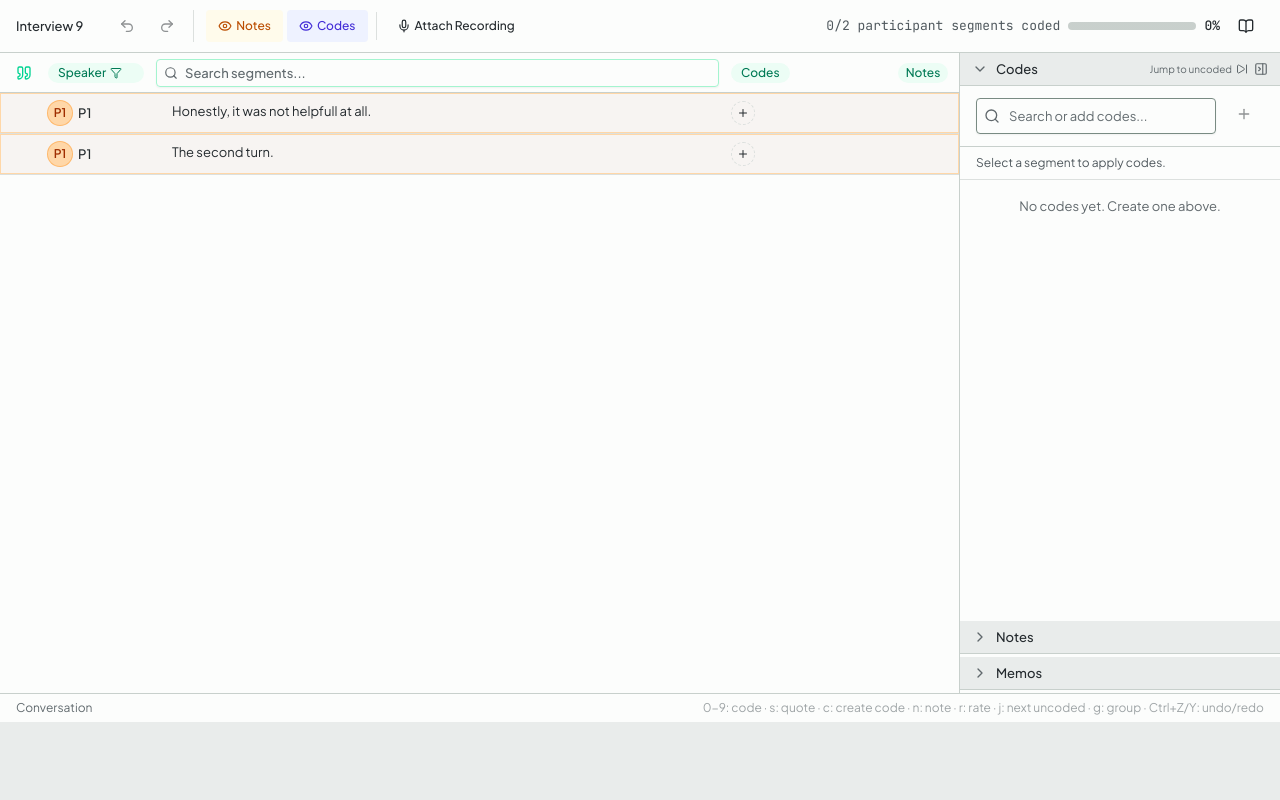
Test: #1319 — a text edit on the conversation workbench › keep as shown saves with the shown span, then closes the editor and says Saved
Double-click the text "Honestly, it was not helpfull at all." at (272,111), box [172,103,371,119]
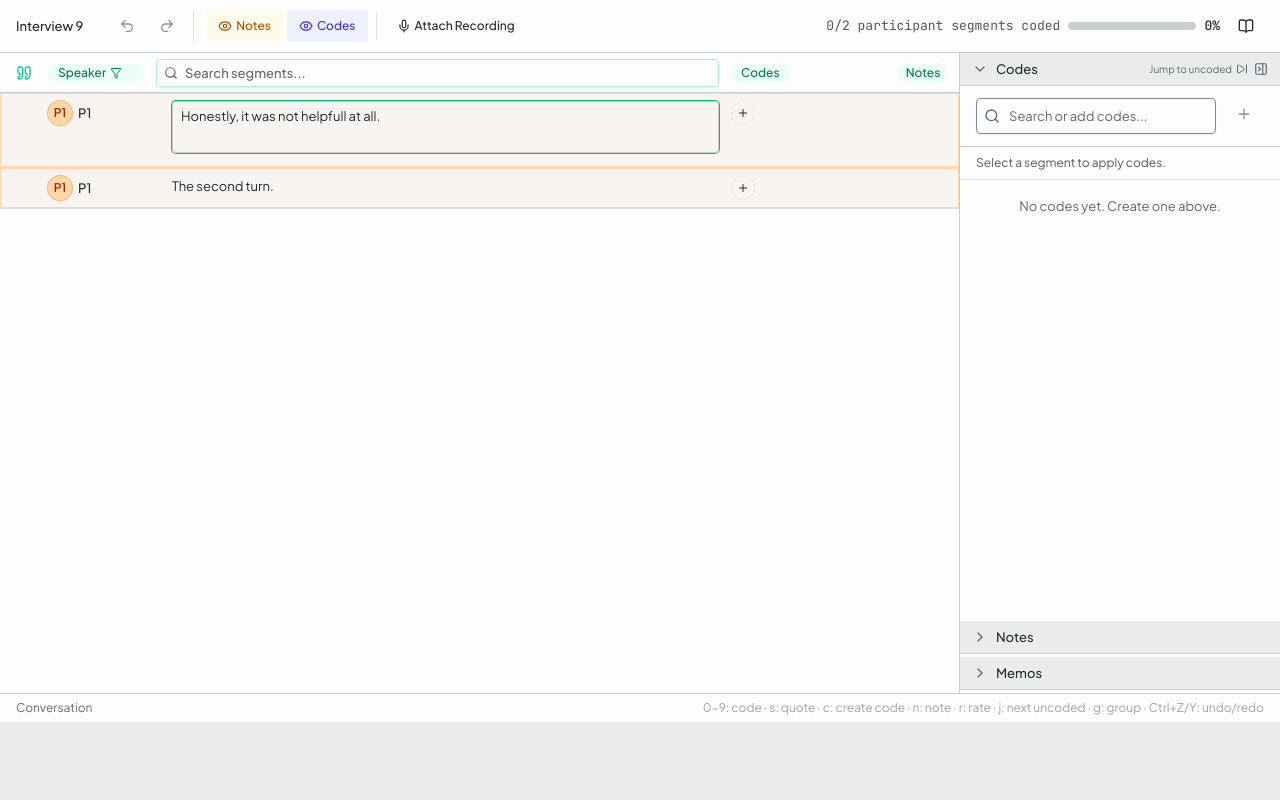
Replace the text in the text box named "Edit segment text" with "Honestly, it was not helpful at all.". click: (446,127)
box: [172,101,719,153]
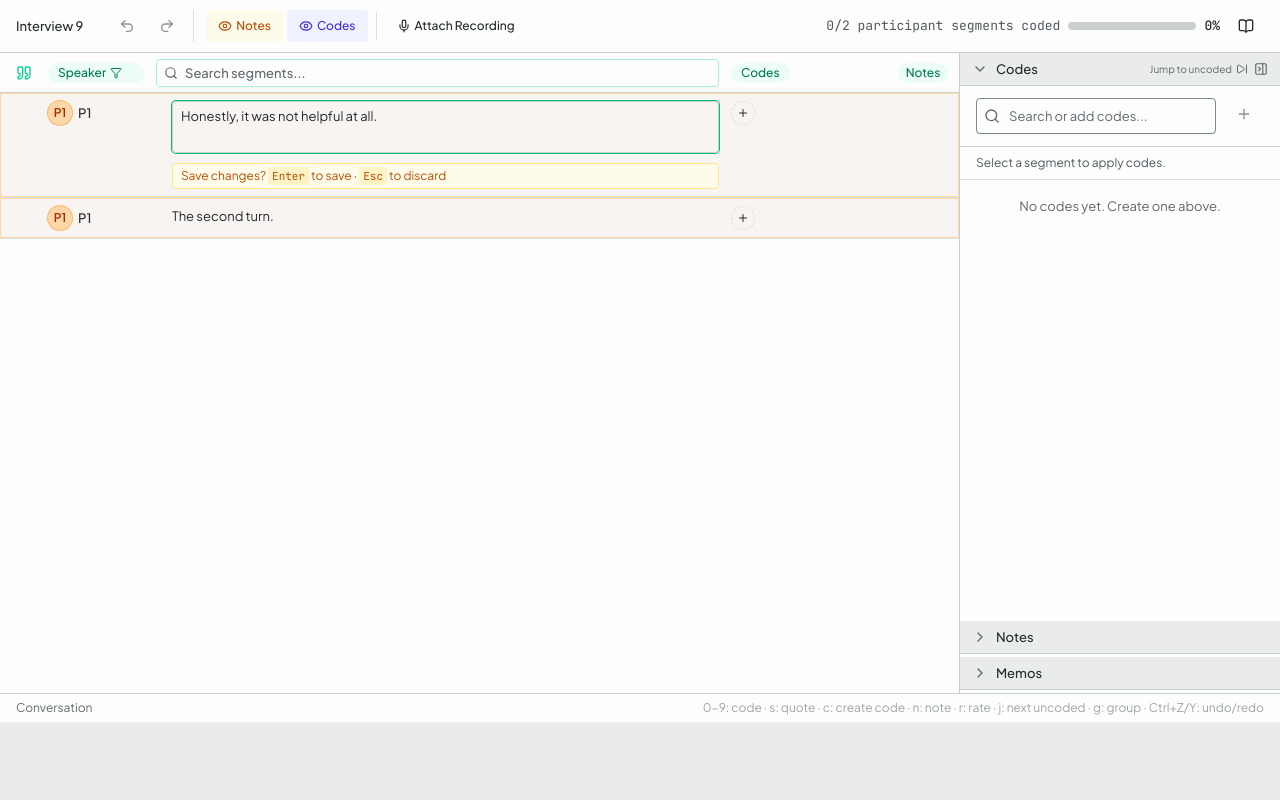
Press Enter in the text box named "Edit segment text", box [172,101,719,153]
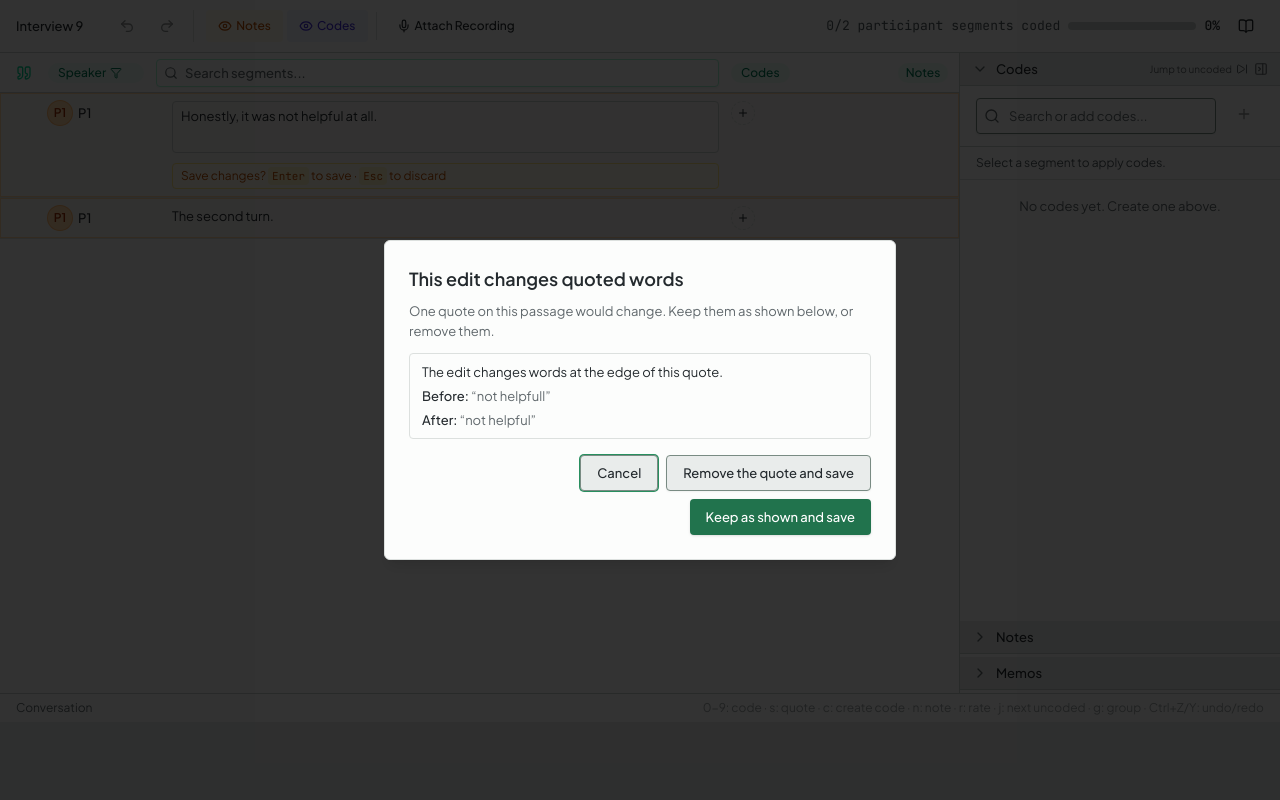
Click the button "Keep as shown and save". click: (780,517)
box: [690,499,871,535]
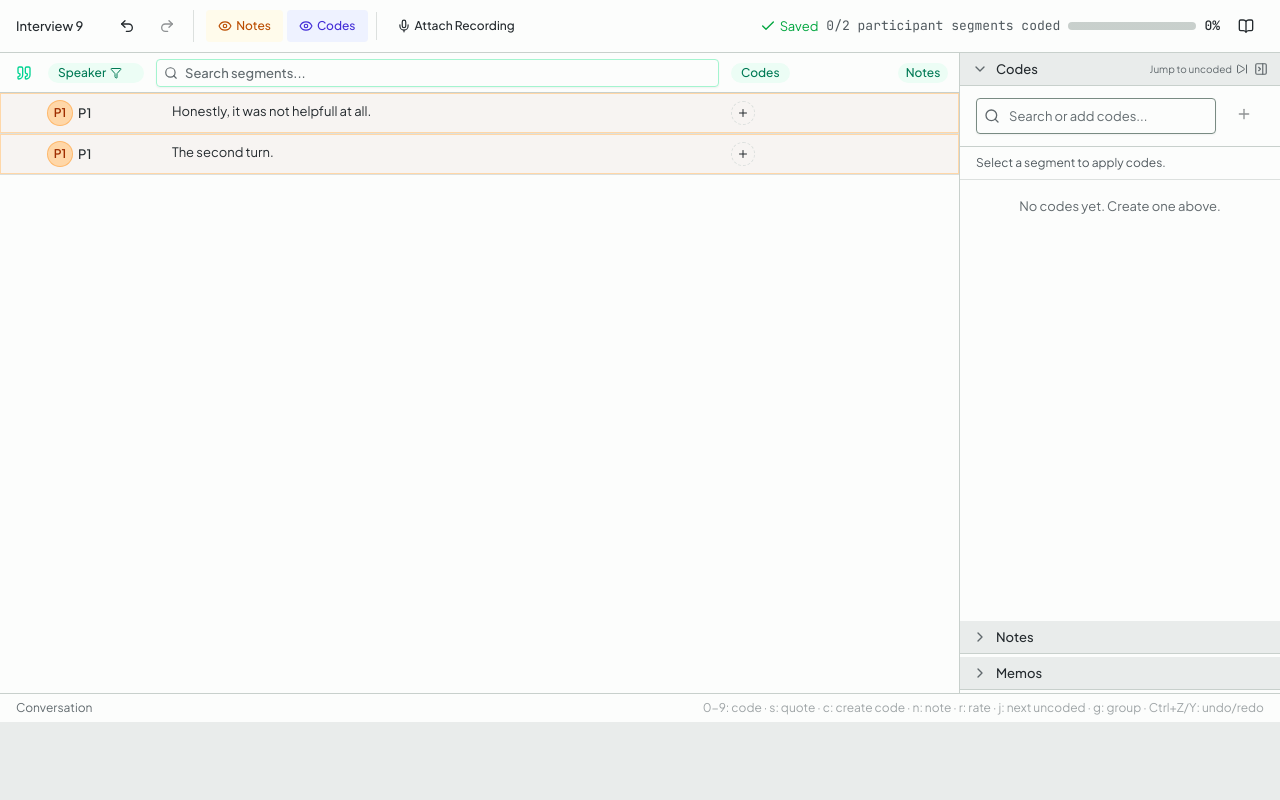
Check: the text "Saved" is shown, box [760,16,818,36]
